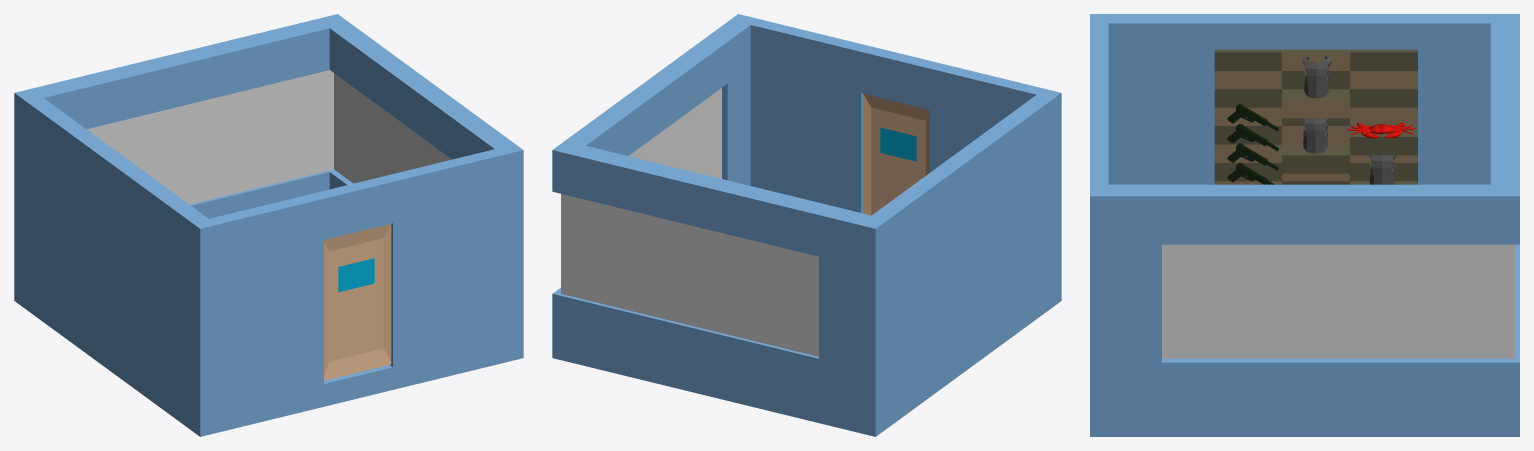
Rendered from all.fbx.
3 views of the same model, side by side, from view 1: azimuth 30°, elevation 25°; view 2: azimuth 150°, elevation 25°; view 3: azimuth 270°, elevation 25° (orthographic). The views are drawn at different scales.
Visible parts, largest first — view 1: Cube, Cube.001, Куб; view 2: Cube, Cube.001, Куб; view 3: Cube, Cube.001, Куб.001, BaseMeshBKP.002, BaseMeshBKP.001, BaseMeshBKP, Shell, Cube.002, Cube.004, Cube.005, Cube.006.
Boxes of the visible parts, x1,y1,x2,y2 form: Cube: [14, 14, 523, 436]; Cube.001: [87, 70, 451, 204]; Куб: [324, 224, 391, 380]; Cube: [552, 14, 1061, 436]; Cube.001: [561, 88, 818, 356]; Куб: [863, 94, 929, 215]; Cube: [1090, 14, 1519, 436]; Cube.001: [1162, 244, 1515, 358]; Куб.001: [1214, 49, 1417, 184]; BaseMeshBKP.002: [1302, 56, 1331, 98]; BaseMeshBKP.001: [1302, 118, 1329, 153]; BaseMeshBKP: [1369, 155, 1396, 184]; Shell: [1347, 122, 1415, 138]; Cube.002: [1227, 104, 1278, 131]; Cube.004: [1227, 124, 1278, 151]; Cube.005: [1227, 143, 1278, 170]; Cube.006: [1227, 162, 1274, 184].
Bounding box in the file's own units: 215 × 132 × 214.
